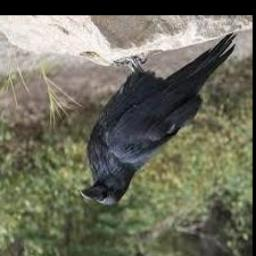Crow: (80, 32, 237, 205)
